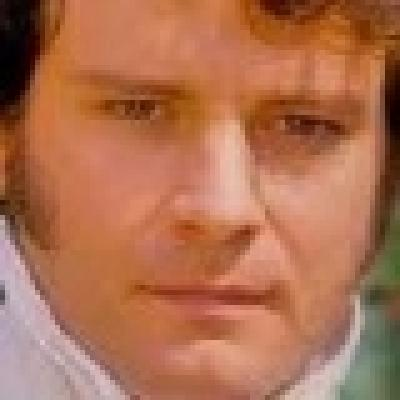netural: (45, 10, 376, 382)
